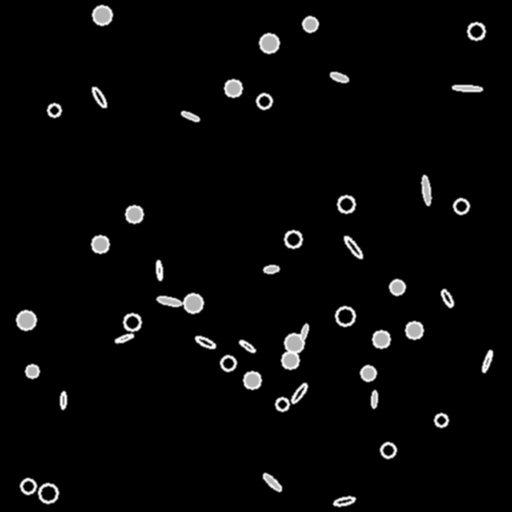pseudomonas: (342, 234, 364, 260), (289, 382, 309, 404), (90, 85, 108, 109), (262, 472, 282, 492), (194, 334, 216, 350), (156, 295, 182, 307), (481, 349, 493, 373), (421, 176, 431, 204), (440, 288, 454, 308), (329, 70, 349, 84), (238, 339, 256, 353), (114, 332, 134, 344), (333, 496, 355, 506), (181, 110, 199, 122), (453, 85, 481, 91), (299, 324, 309, 340), (263, 265, 279, 273), (371, 390, 377, 408), (60, 391, 66, 409), (156, 261, 162, 279)
synechocystis: (39, 484, 57, 502), (93, 6, 111, 24), (260, 34, 278, 52), (285, 334, 303, 352), (336, 307, 354, 325), (17, 311, 35, 329), (184, 294, 202, 312), (124, 314, 140, 330), (468, 23, 484, 39), (126, 206, 142, 222), (373, 331, 389, 347), (244, 372, 260, 388), (406, 322, 422, 338), (285, 231, 301, 247), (92, 236, 108, 252), (282, 352, 298, 368), (338, 196, 354, 212), (225, 80, 241, 96), (221, 356, 235, 370), (21, 479, 35, 493), (390, 280, 404, 294), (257, 94, 271, 108), (361, 366, 375, 380), (303, 17, 317, 31), (381, 443, 395, 457), (454, 199, 468, 213), (26, 365, 38, 377), (435, 414, 447, 426), (276, 398, 288, 410), (48, 104, 60, 116)
